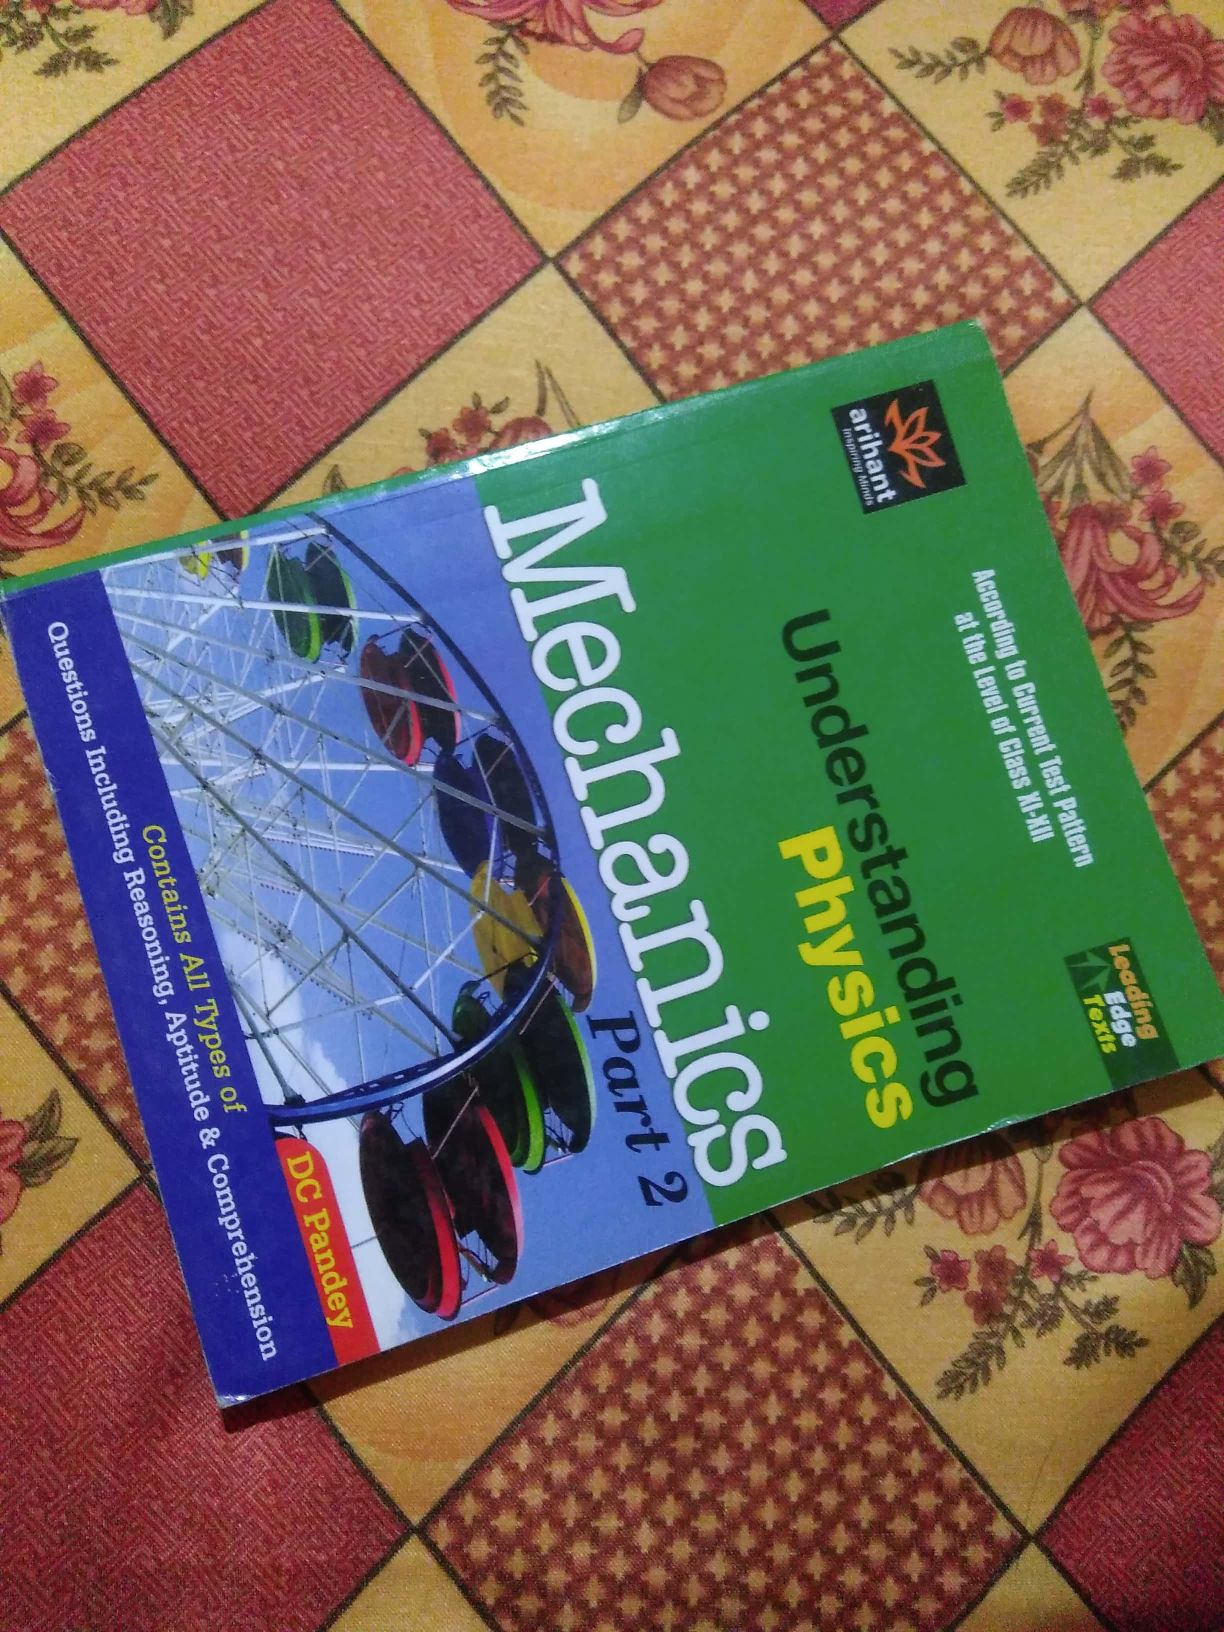mechanics: (17, 407, 1129, 1333)
